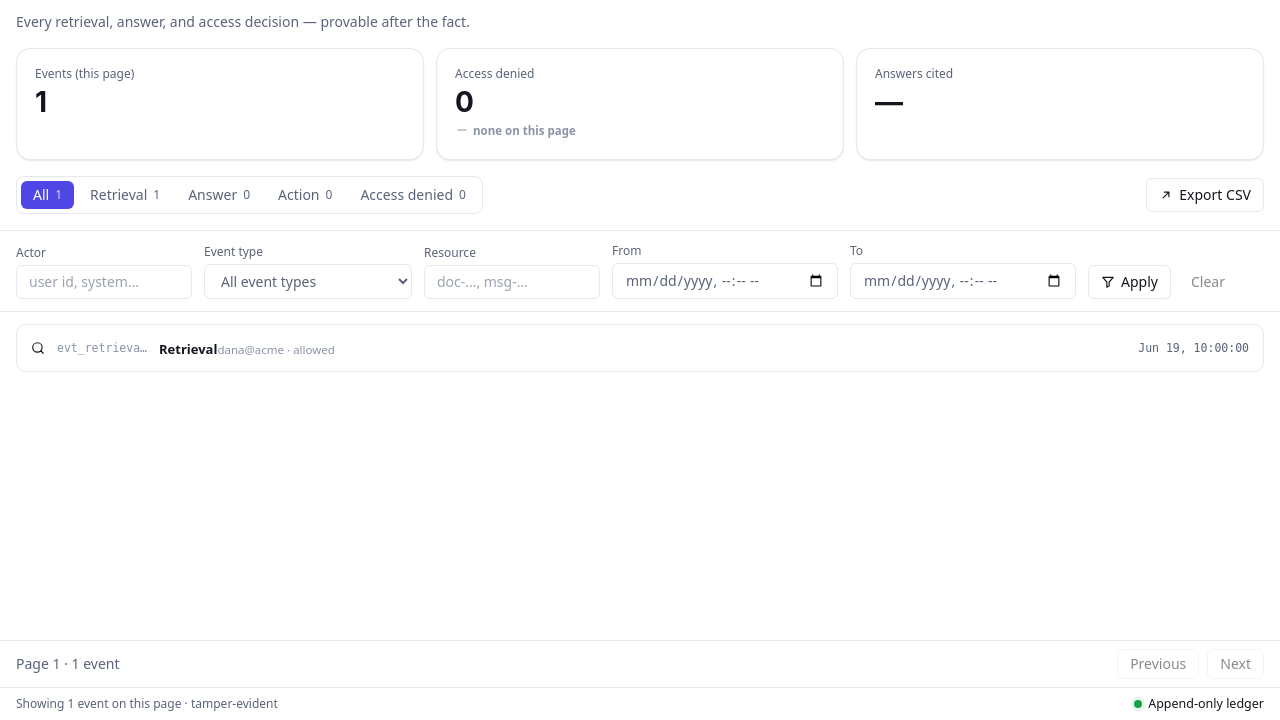
it: AuditPanel — #121 polish › shows the segment-empty copy when the chosen segment matches nothing on the page
The image size is (1280, 720).
Expected: the list named "audit events" is shown, top-left (16, 324), bottom-right (1264, 372)
Click the button "Answer 0".
click(219, 195)  # box top-left (176, 181), bottom-right (262, 209)
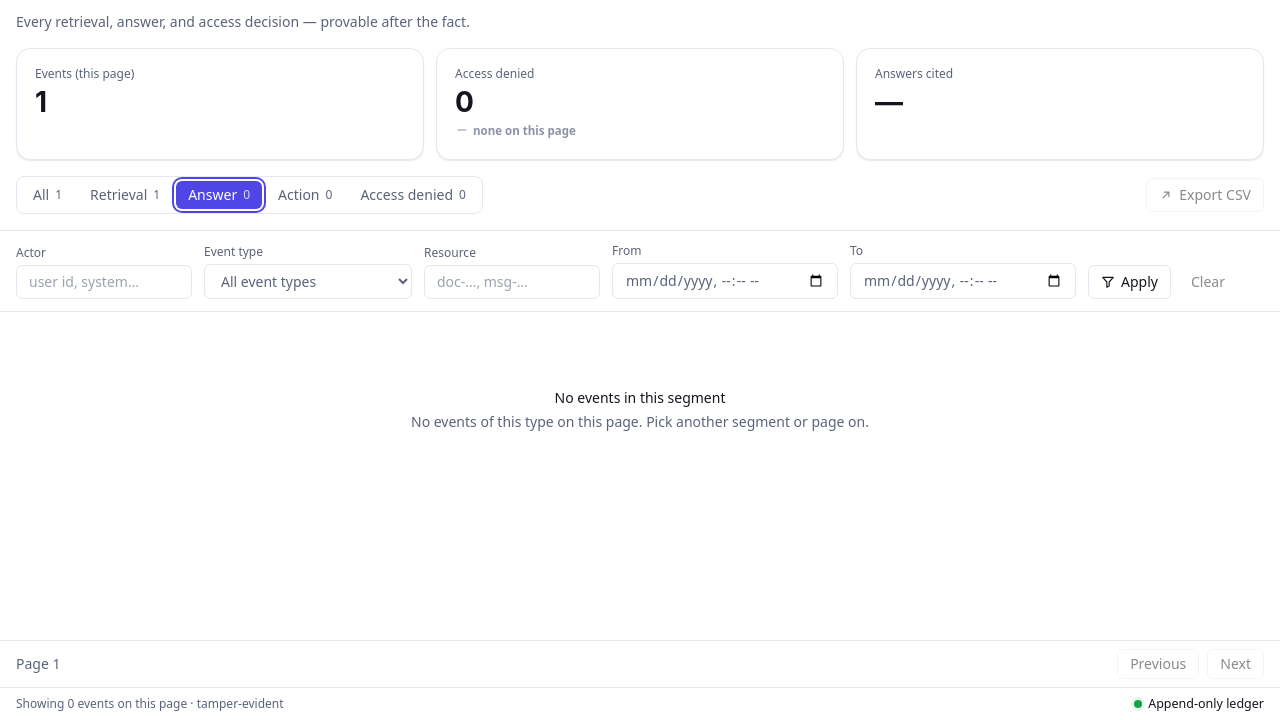
Now the text "No events in this segment" is shown, box top-left (554, 388), bottom-right (725, 407)
Now the text "No events of this type on this page" is shown, box top-left (411, 412), bottom-right (869, 431)
